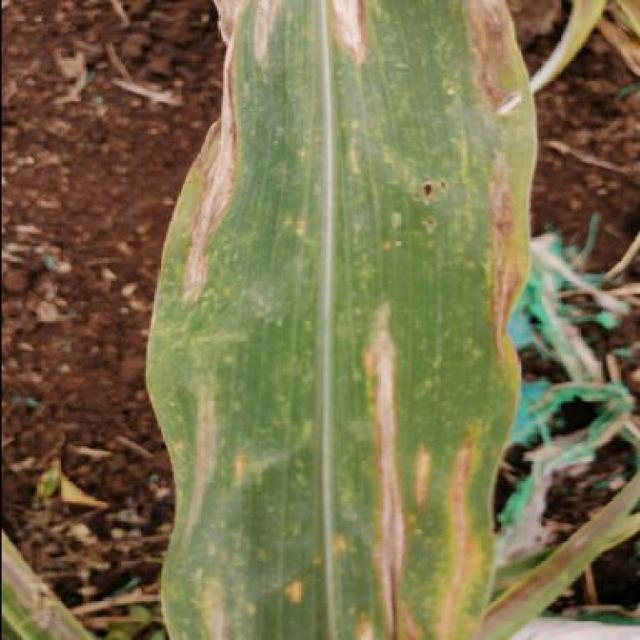Corn_Leaf_Blight: (149, 0, 525, 640)
